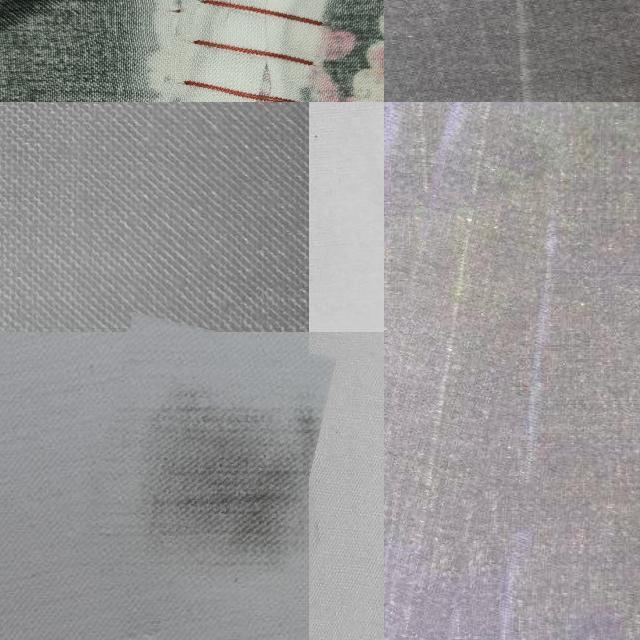Thread_other: (86, 321, 322, 607)
Thread_out: (123, 0, 343, 102)
stains: (384, 102, 539, 640)
